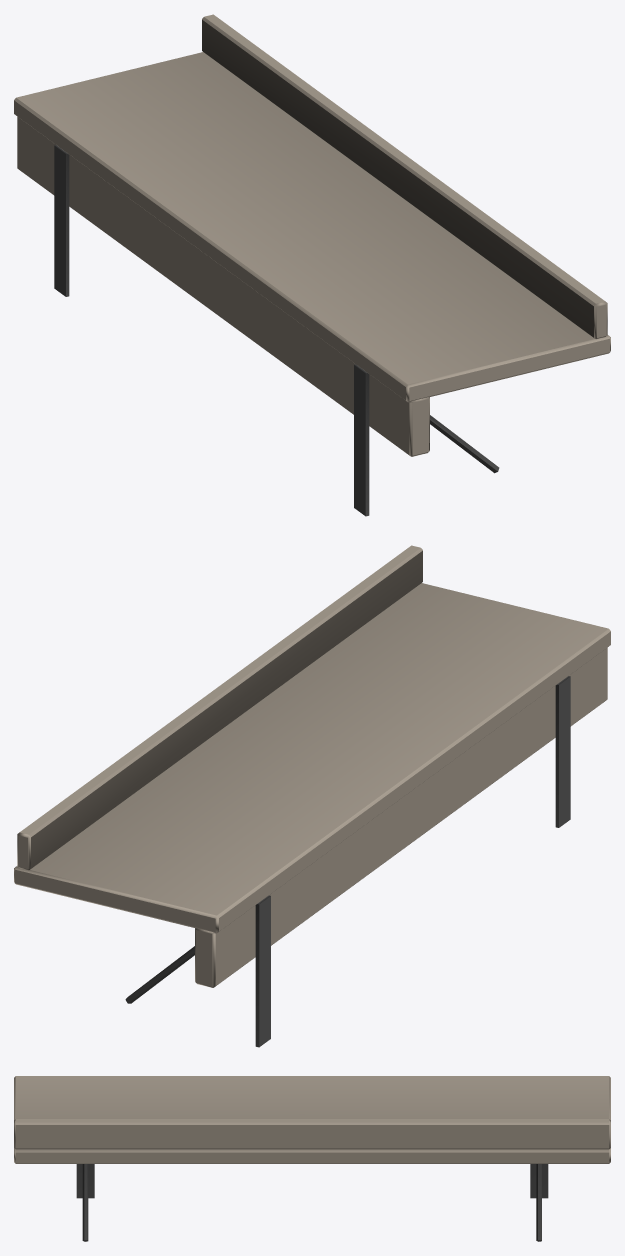
Rendered from stash_rack_2.glb.
3 renders of one model, top to bottom at view 1: azimuth 30°, elevation 25°; view 2: azimuth 150°, elevation 25°; view 3: azimuth 270°, elevation 25°, orthographic. The views are drawn at different scales.
Visible parts, largest first — view 1: static; view 2: static; view 3: static.
Boxes of the visible parts, x1=… form: static: x1=14, y1=14, x2=610, y2=516; static: x1=14, y1=545, x2=610, y2=1047; static: x1=14, y1=1076, x2=610, y2=1241.
Bounding box in the file's own units: 0.3 × 0.274 × 1.
